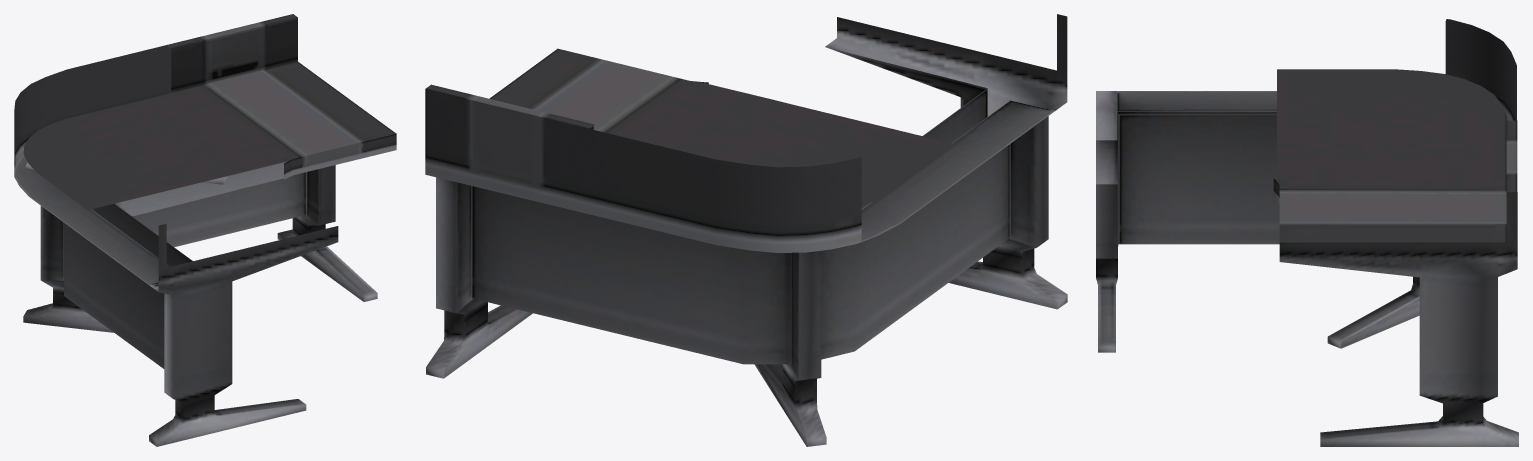
File: Desk01_Corner.FBX
3 views of the same model, side by side, from view 1: azimuth 30°, elevation 25°; view 2: azimuth 150°, elevation 25°; view 3: azimuth 270°, elevation 25° (orthographic). The views are drawn at different scales.
Parts seen in each view (by area): view 1: Desk01_Corner; view 2: Desk01_Corner; view 3: Desk01_Corner.
Boxes of the visible parts, box(x1,y1,x2,y2) form: Desk01_Corner: box(14, 14, 396, 446); Desk01_Corner: box(425, 14, 1067, 446); Desk01_Corner: box(1096, 19, 1518, 446).
Bounding box in the file's own units: 1.5 × 0.9976 × 1.5.
